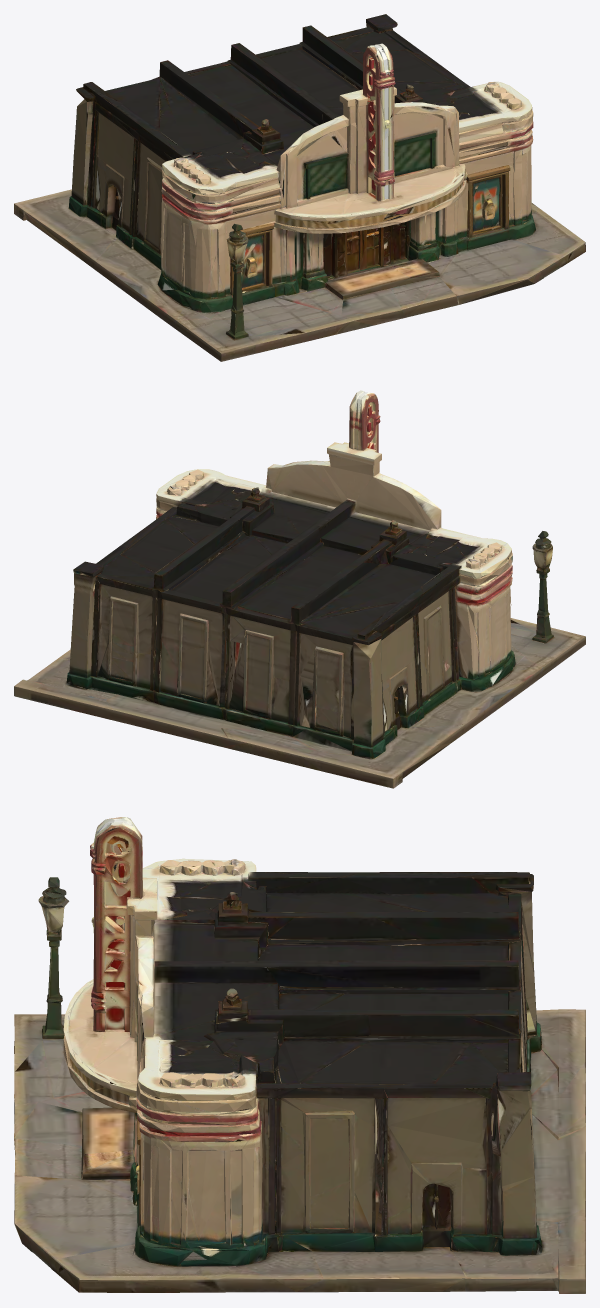
Rendered from town_cinema.glb.
The picture shows the model from 3 angles, top to bottom: view 1: azimuth 30°, elevation 25°; view 2: azimuth 150°, elevation 25°; view 3: azimuth 270°, elevation 25°; orthographic projection. The views are drawn at different scales.
Parts seen in each view (by area): view 1: normalize; view 2: normalize; view 3: normalize.
Boxes of the visible parts, x1,y1,x2,y2 form: normalize: [14, 14, 585, 361]; normalize: [14, 390, 585, 788]; normalize: [14, 817, 585, 1293].
Bounding box in the file's own units: 1 × 0.5878 × 0.8953.
Materials: 1 (1 with a texture image).
